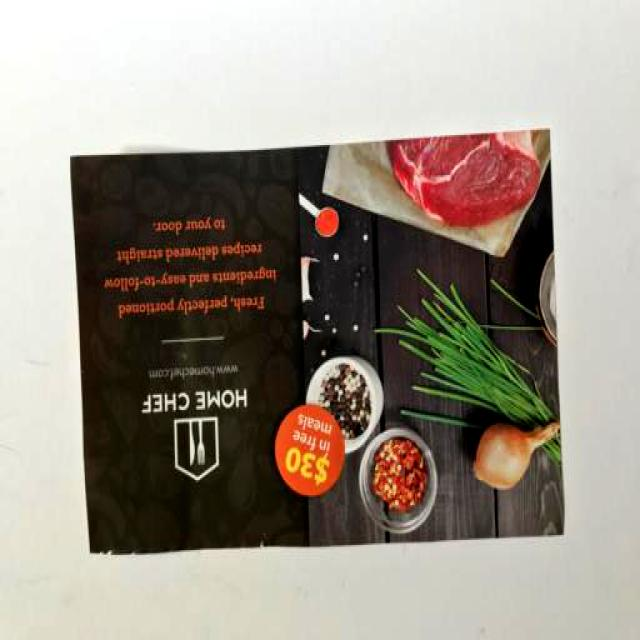paper: (50, 140, 585, 569)
